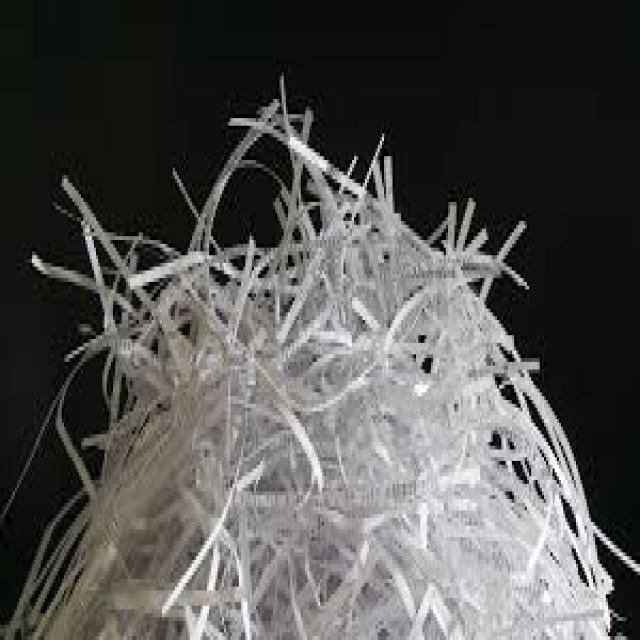paper: (0, 65, 638, 636)
